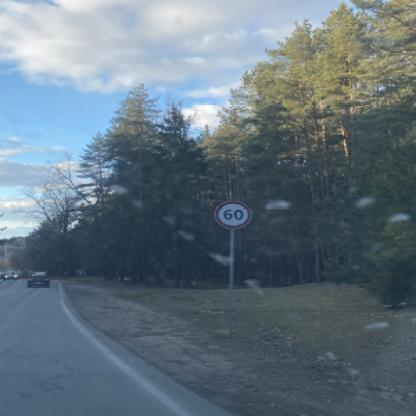Speed Limit 60: (216, 202, 251, 229)
